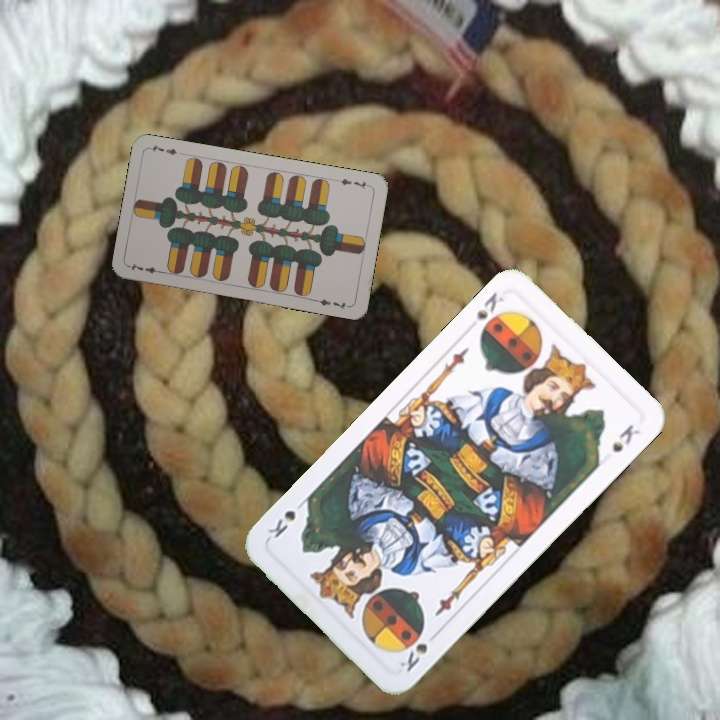E7: (126, 259, 166, 276), (336, 174, 372, 192)
SK: (395, 639, 430, 675), (472, 288, 507, 322)
